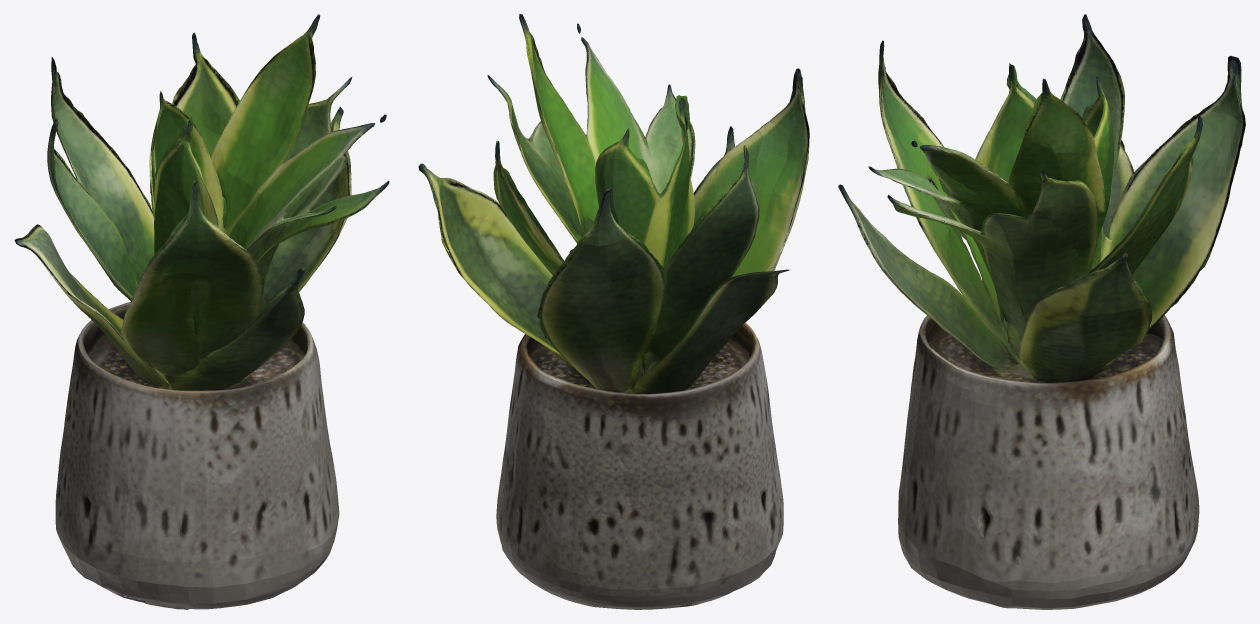
3 views of the same model, side by side, from view 1: azimuth 30°, elevation 25°; view 2: azimuth 150°, elevation 25°; view 3: azimuth 270°, elevation 25° (orthographic). The views are drawn at different scales.
Visible parts, largest first — view 1: world; view 2: world; view 3: world.
Boxes of the visible parts, x1,y1,x2,y2 form: world: [14, 14, 389, 609]; world: [418, 14, 809, 609]; world: [838, 14, 1245, 609].
Bounding box in the file's own units: 0.7064 × 1 × 0.6776.
Materials: 1 (1 with a texture image).
